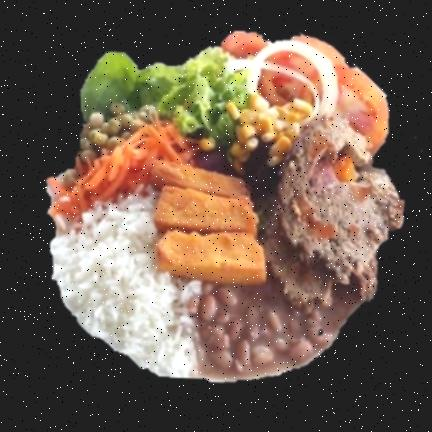beans: (193, 281, 358, 380)
carrot: (49, 120, 196, 222)
cassava: (152, 162, 266, 284)
corn: (227, 94, 317, 170)
meat: (264, 116, 403, 311)
rice: (51, 187, 202, 377)
salad: (81, 47, 250, 148)
tomato: (291, 36, 388, 152), (267, 52, 322, 94), (259, 71, 312, 104), (222, 31, 268, 58)
